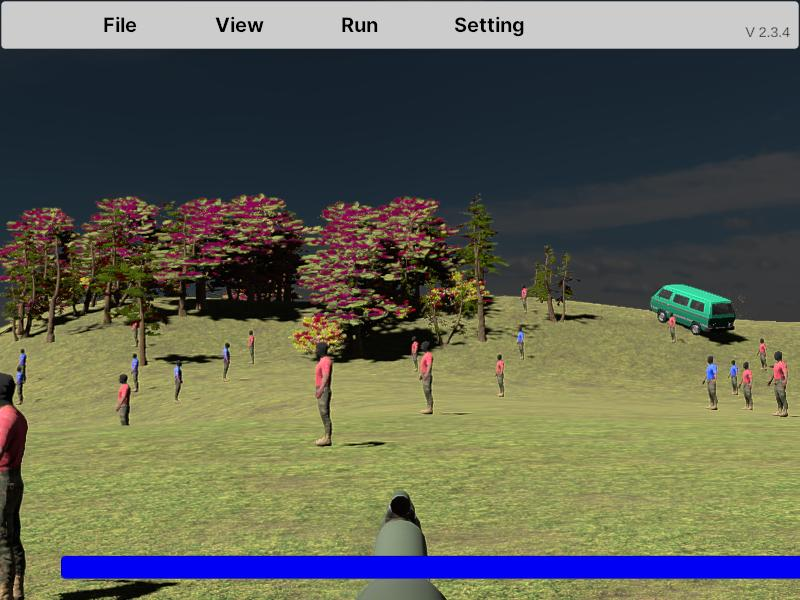Human: (0, 370, 28, 600), (315, 340, 333, 447), (768, 352, 788, 417), (418, 339, 433, 415), (116, 372, 130, 449), (702, 356, 719, 411), (740, 362, 754, 412), (728, 358, 740, 397), (496, 352, 505, 398)
car: (650, 284, 736, 337)
